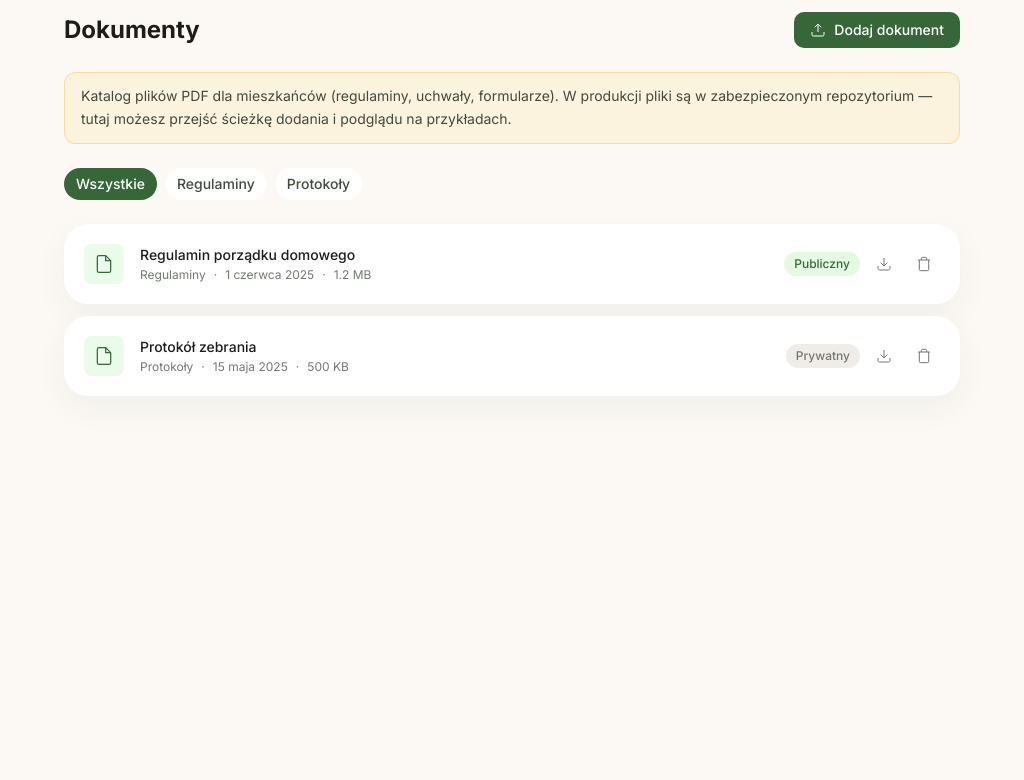
Test: AdminDocumentsPage › zamyka formularz po kliknięciu Anuluj
Expected: the heading "Regulamin porządku domowego" is shown, [140,244,371,264]
Click the button "Dodaj dokument".
click(877, 30)  # box [794,12,960,48]
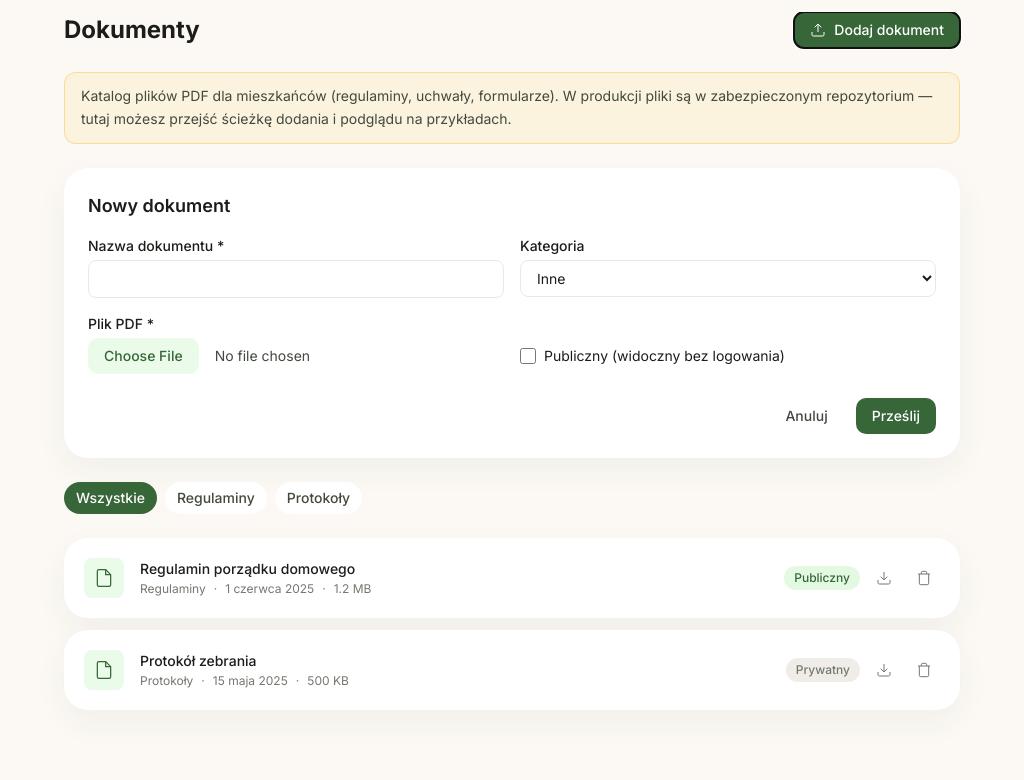
Expected: the heading "Nowy dokument" is shown, [88,194,230,216]
Click the button "Anuluj".
click(807, 416)  # box [769,398,844,434]
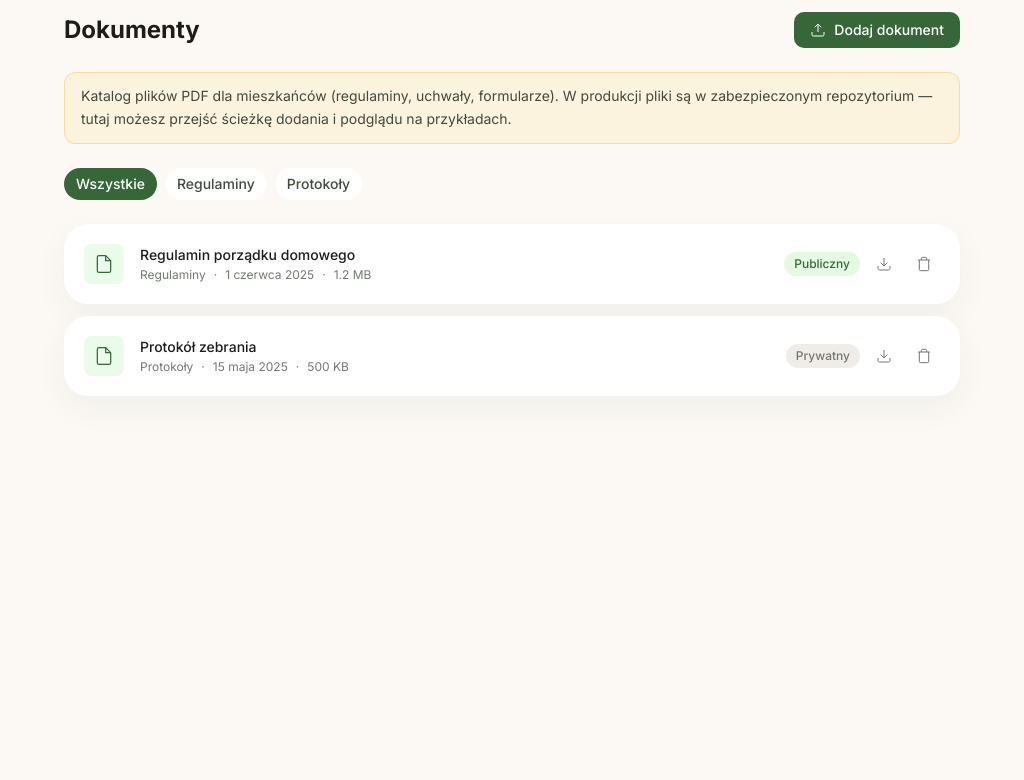
Expected: the heading "Nowy dokument" is gone
